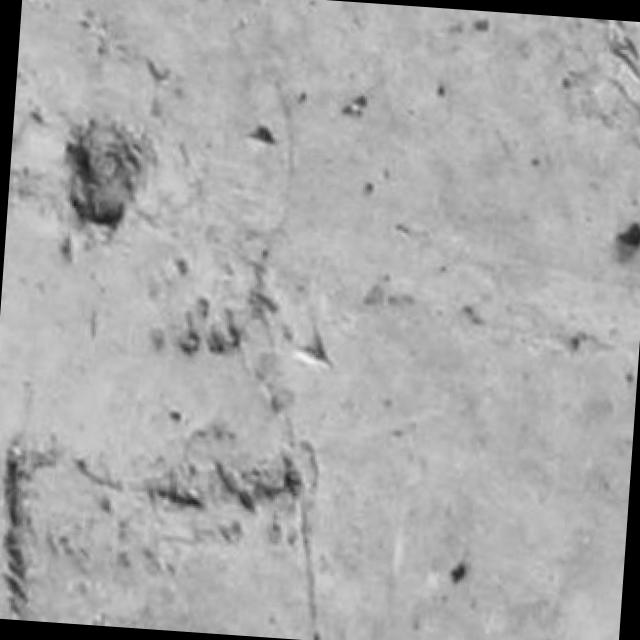crack: (3, 441, 28, 618)
